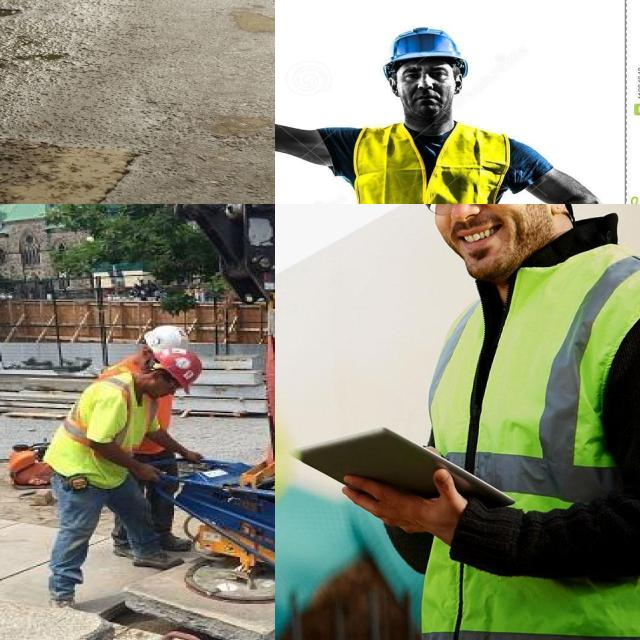face_nomask: (413, 204, 576, 276), (132, 364, 181, 406)
glasses: (414, 204, 530, 216)
hand_noglove: (338, 464, 473, 554), (134, 463, 181, 493), (186, 442, 212, 476)
head_helmet: (383, 22, 472, 70), (152, 346, 204, 389), (139, 322, 186, 357)
person: (348, 204, 640, 640), (298, 6, 552, 204), (48, 344, 204, 608)
vest: (400, 250, 640, 640), (47, 370, 156, 485), (347, 124, 499, 204)
